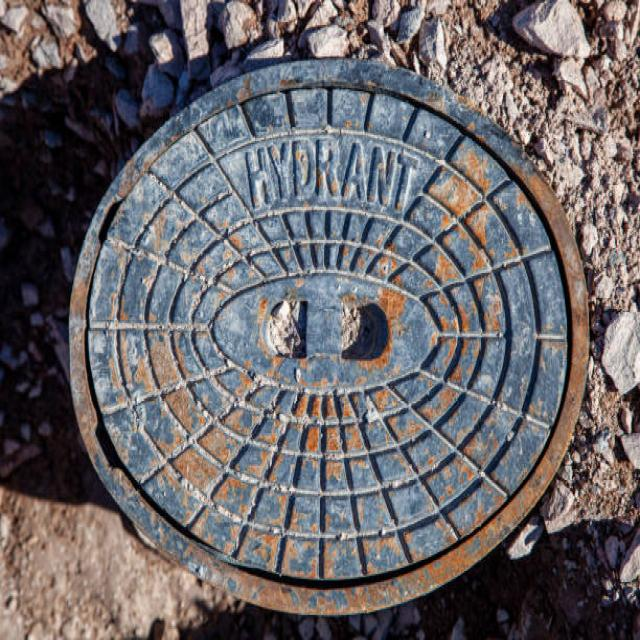Good: (56, 52, 597, 623)
